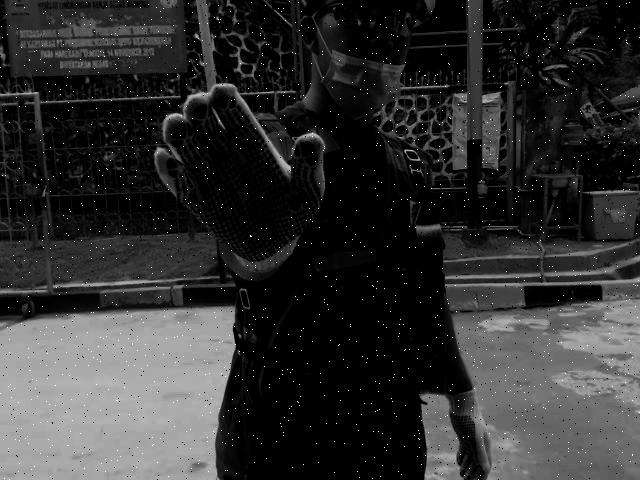glasses: (319, 0, 426, 39)
gloves: (148, 77, 331, 288), (440, 387, 500, 479)
mask: (319, 50, 409, 121)
vest: (259, 212, 450, 419)
